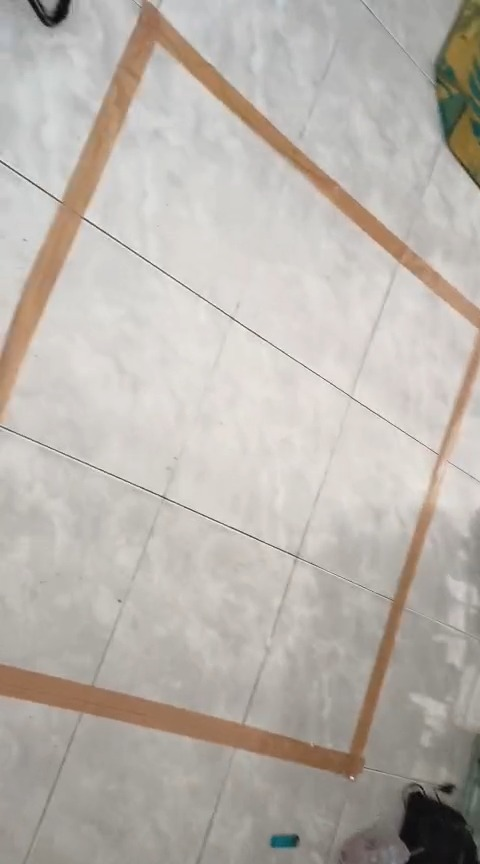floor marking: (0, 332, 479, 777), (2, 2, 479, 410)
